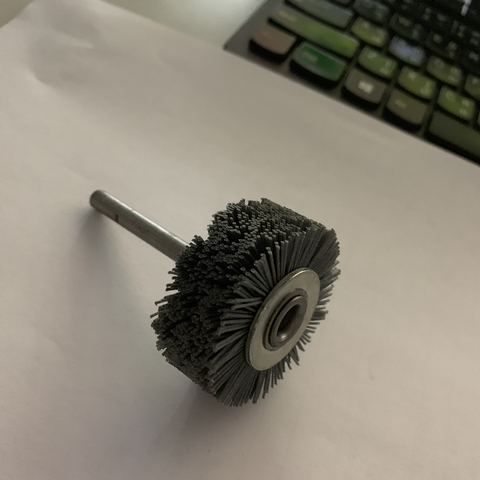Wheel Brush: (84, 177, 356, 422), (100, 162, 353, 407), (85, 187, 334, 407), (151, 166, 344, 411)
